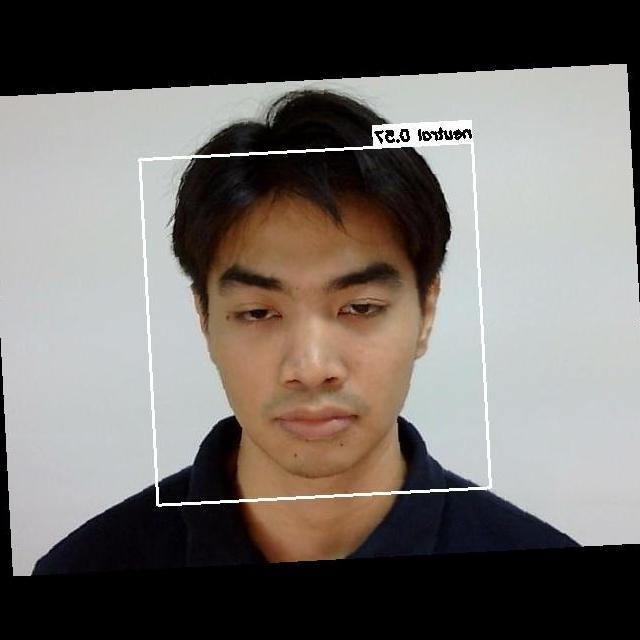Natural: (197, 241, 410, 459)
